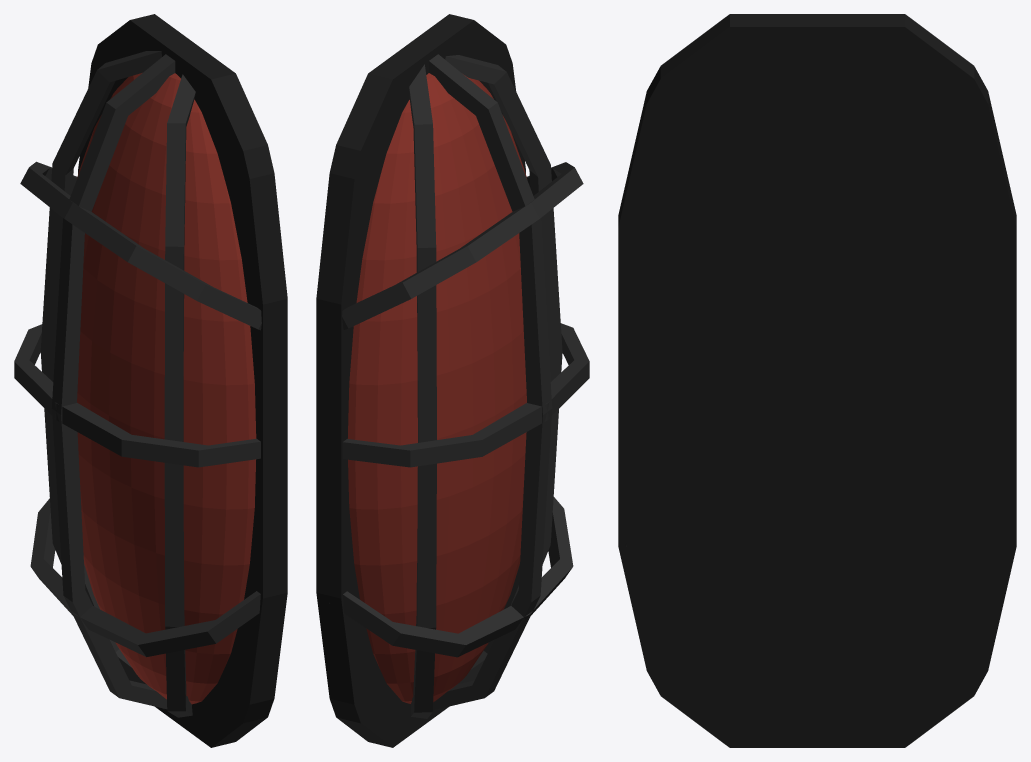
Rendered from Light.fbx.
3 renders of one model, left to right at view 1: azimuth 30°, elevation 25°; view 2: azimuth 150°, elevation 25°; view 3: azimuth 270°, elevation 25°, orthographic. The views are drawn at different scales.
Parts seen in each view (by area): view 1: Sphere, Cube, Cube.001, Cube.002, Cube.003, Cube.004, Cube.005, Cube.006; view 2: Sphere, Cube, Cube.001, Cube.003, Cube.002, Cube.004, Cube.005, Cube.006; view 3: Cube.
Part boxes in pixels (x1,y1,x2,y2): Sphere: [76, 72, 256, 704]; Cube: [78, 14, 287, 747]; Cube.001: [51, 54, 175, 709]; Cube.002: [164, 74, 195, 717]; Cube.003: [40, 51, 164, 709]; Cube.004: [14, 324, 260, 467]; Cube.005: [30, 498, 260, 657]; Cube.006: [20, 161, 261, 330]; Sphere: [347, 73, 527, 703]; Cube: [316, 14, 525, 747]; Cube.001: [429, 54, 552, 710]; Cube.003: [409, 64, 436, 718]; Cube.002: [445, 55, 562, 684]; Cube.004: [342, 323, 589, 467]; Cube.005: [329, 497, 573, 657]; Cube.006: [342, 162, 583, 329]; Cube: [618, 14, 1016, 747].
Bounding box in the file's own units: 43.99 × 200 × 100.
